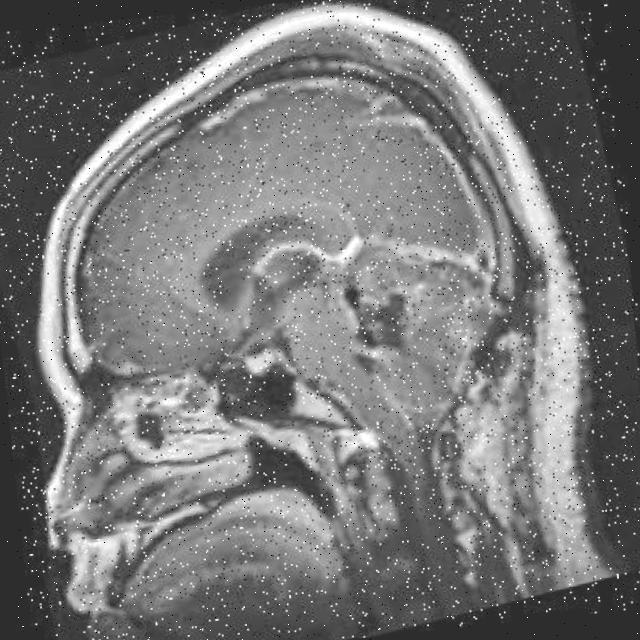CN: (254, 194, 477, 381)
